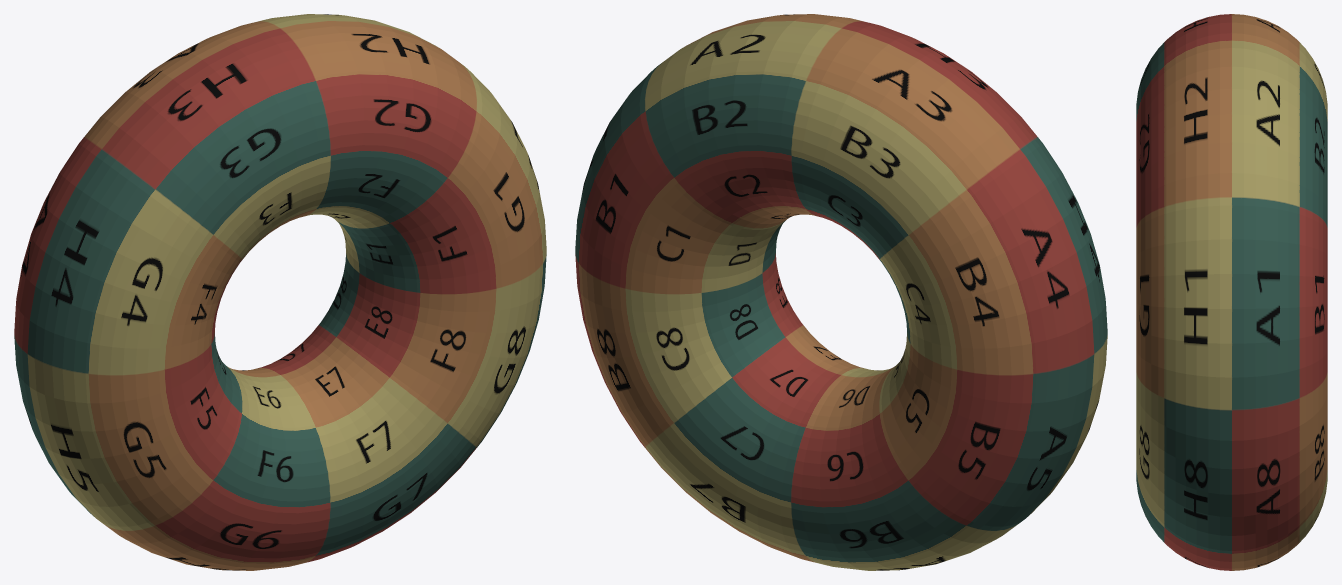
File: texture_torus_R6_r20.glb
The picture shows the model from 3 angles, left to right: view 1: azimuth 30°, elevation 25°; view 2: azimuth 150°, elevation 25°; view 3: azimuth 270°, elevation 25°; orthographic projection. The views are drawn at different scales.
Parts seen in each view (by area): view 1: world; view 2: world; view 3: world.
Boxes of the visible parts, left/top/right/bottom form: world: left=14, top=14, right=546, bottom=570; world: left=575, top=14, right=1107, bottom=570; world: left=1136, top=14, right=1327, bottom=570.
Bounding box in the file's own units: 21.33 × 21.29 × 7.32.
1 material, 1 textured.
